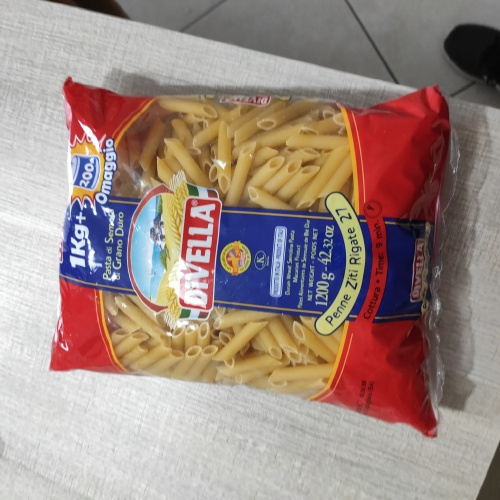pasta: (59, 77, 447, 430)
